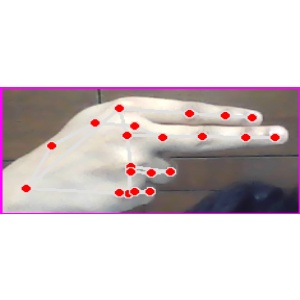H: (1, 88, 300, 213)
